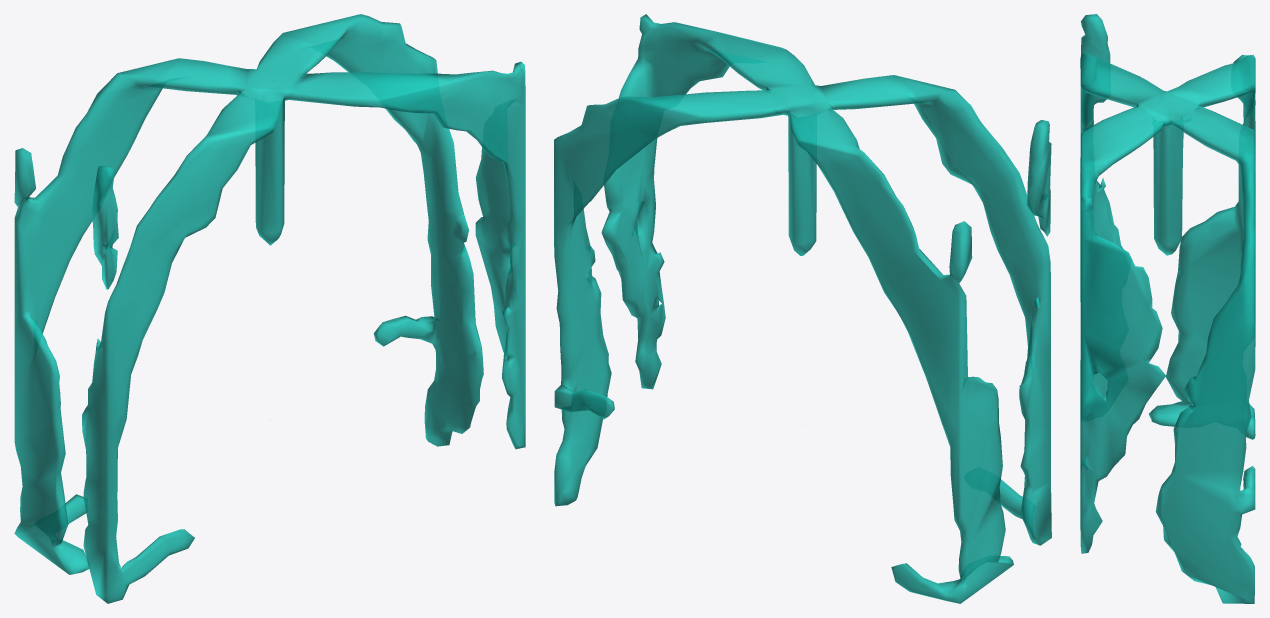
3 renders of one model, left to right at view 1: azimuth 30°, elevation 25°; view 2: azimuth 150°, elevation 25°; view 3: azimuth 270°, elevation 25°, orthographic. The views are drawn at different scales.
Visible parts, largest first — view 1: Liquid_Domain; view 2: Liquid_Domain; view 3: Liquid_Domain.
Boxes of the visible parts, x1,y1,x2,y2 form: Liquid_Domain: (14, 14, 525, 603); Liquid_Domain: (554, 14, 1051, 603); Liquid_Domain: (1080, 14, 1255, 603).
Bounding box in the file's own units: 884 × 884 × 345.
